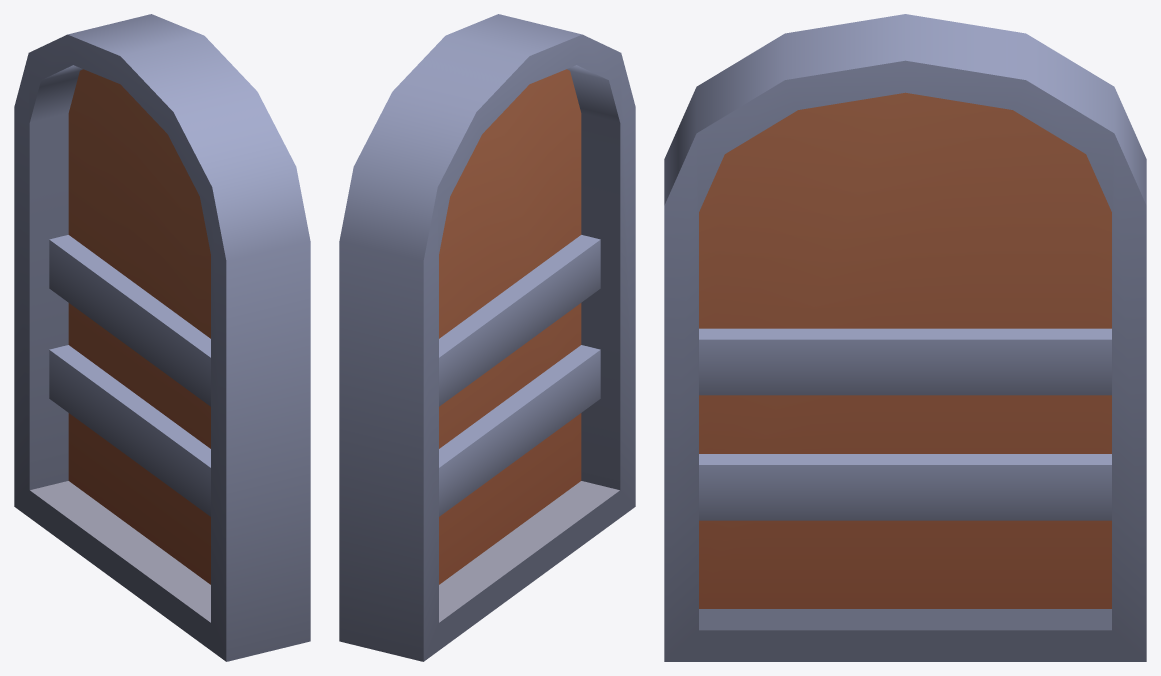
Rendered from gate.glb.
3 views of the same model, side by side, from view 1: azimuth 30°, elevation 25°; view 2: azimuth 150°, elevation 25°; view 3: azimuth 270°, elevation 25° (orthographic). The views are drawn at different scales.
Visible parts, largest first — view 1: gate; view 2: gate; view 3: gate.
Part boxes in pixels (<box>): gate: <box>14,14,310,661</box>; gate: <box>339,14,635,661</box>; gate: <box>664,14,1146,661</box>.
Bounding box in the file's own units: 0.1516 × 0.9103 × 0.6622.
